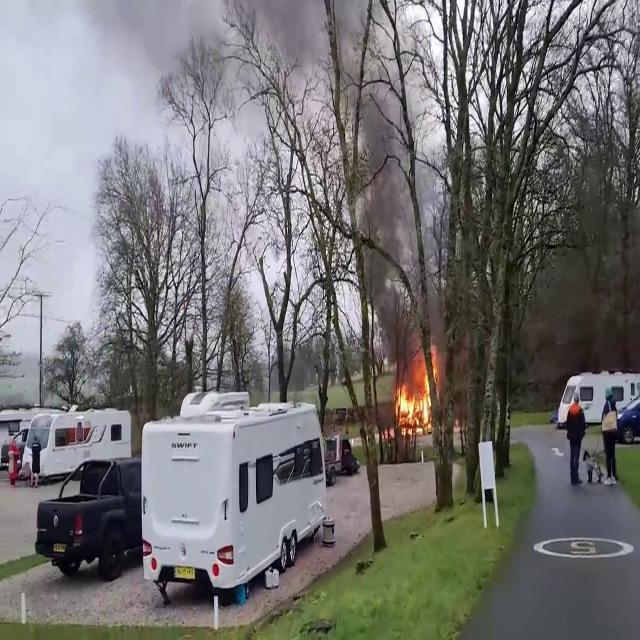Fire: (120, 0, 362, 132), (392, 346, 440, 435)
Smoke: (320, 5, 426, 368)
